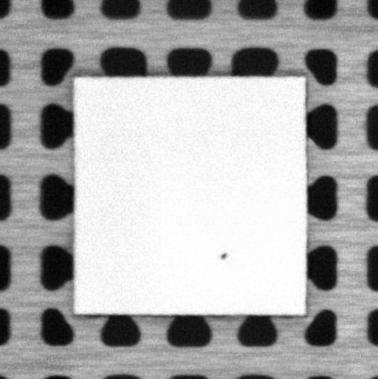DIE_INK: (218, 250, 228, 260)
